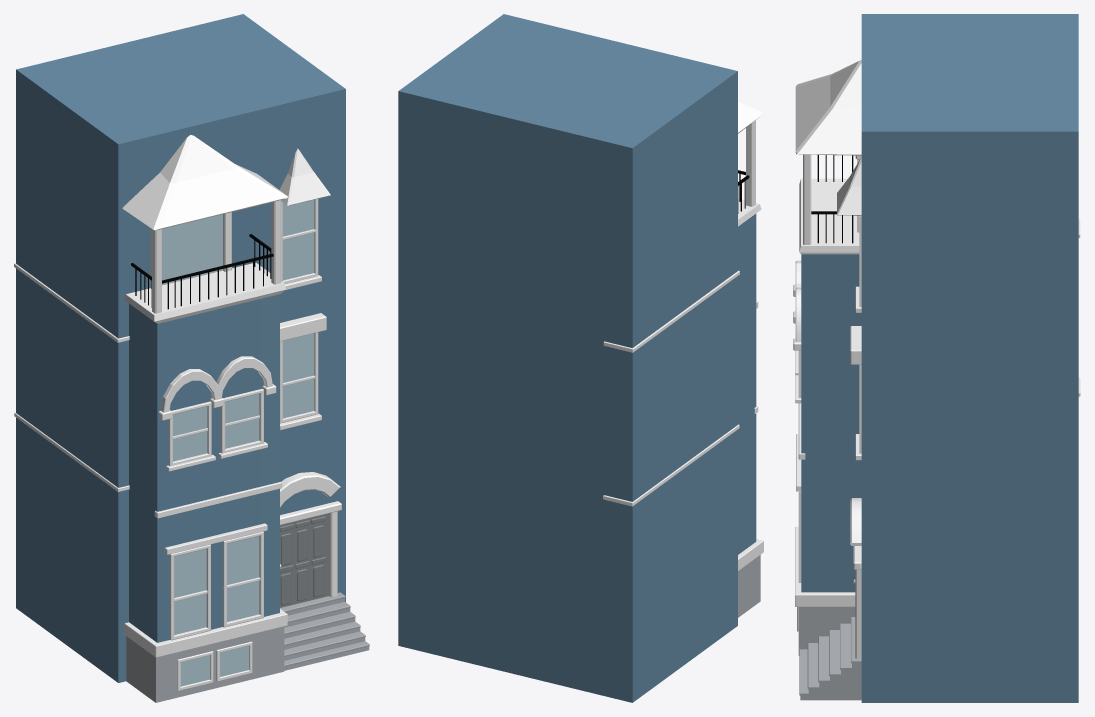
Rendered from BolunHouseUVd002.fbx.
The picture shows the model from 3 angles, left to right: view 1: azimuth 30°, elevation 25°; view 2: azimuth 150°, elevation 25°; view 3: azimuth 270°, elevation 25°; orthographic projection. The views are drawn at different scales.
Parts seen in each view (by area): view 1: polySurface198; view 2: polySurface198; view 3: polySurface198.
Boxes of the visible parts, box(x1,y1,x2,y2) form: polySurface198: box(14, 14, 369, 702); polySurface198: box(398, 14, 764, 702); polySurface198: box(793, 14, 1080, 702).
Bounding box in the file's own units: 4.99 × 11.24 × 5.12.
